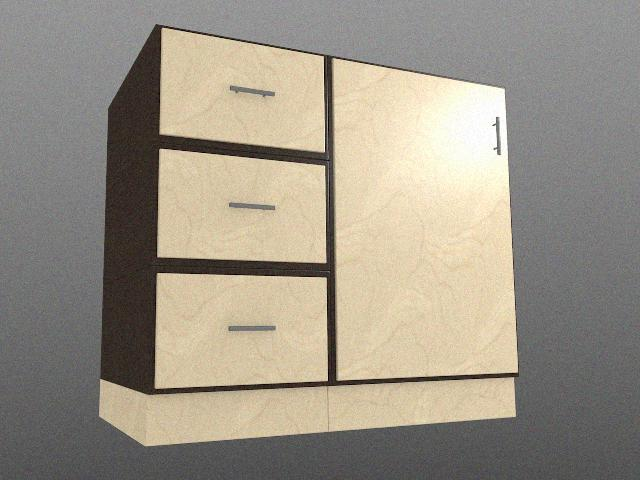cabinet_door: (335, 74, 512, 377), (154, 275, 328, 386), (158, 157, 326, 261), (160, 42, 326, 144)
handle: (223, 191, 282, 219), (224, 77, 281, 105), (222, 314, 281, 339), (484, 111, 506, 163)
